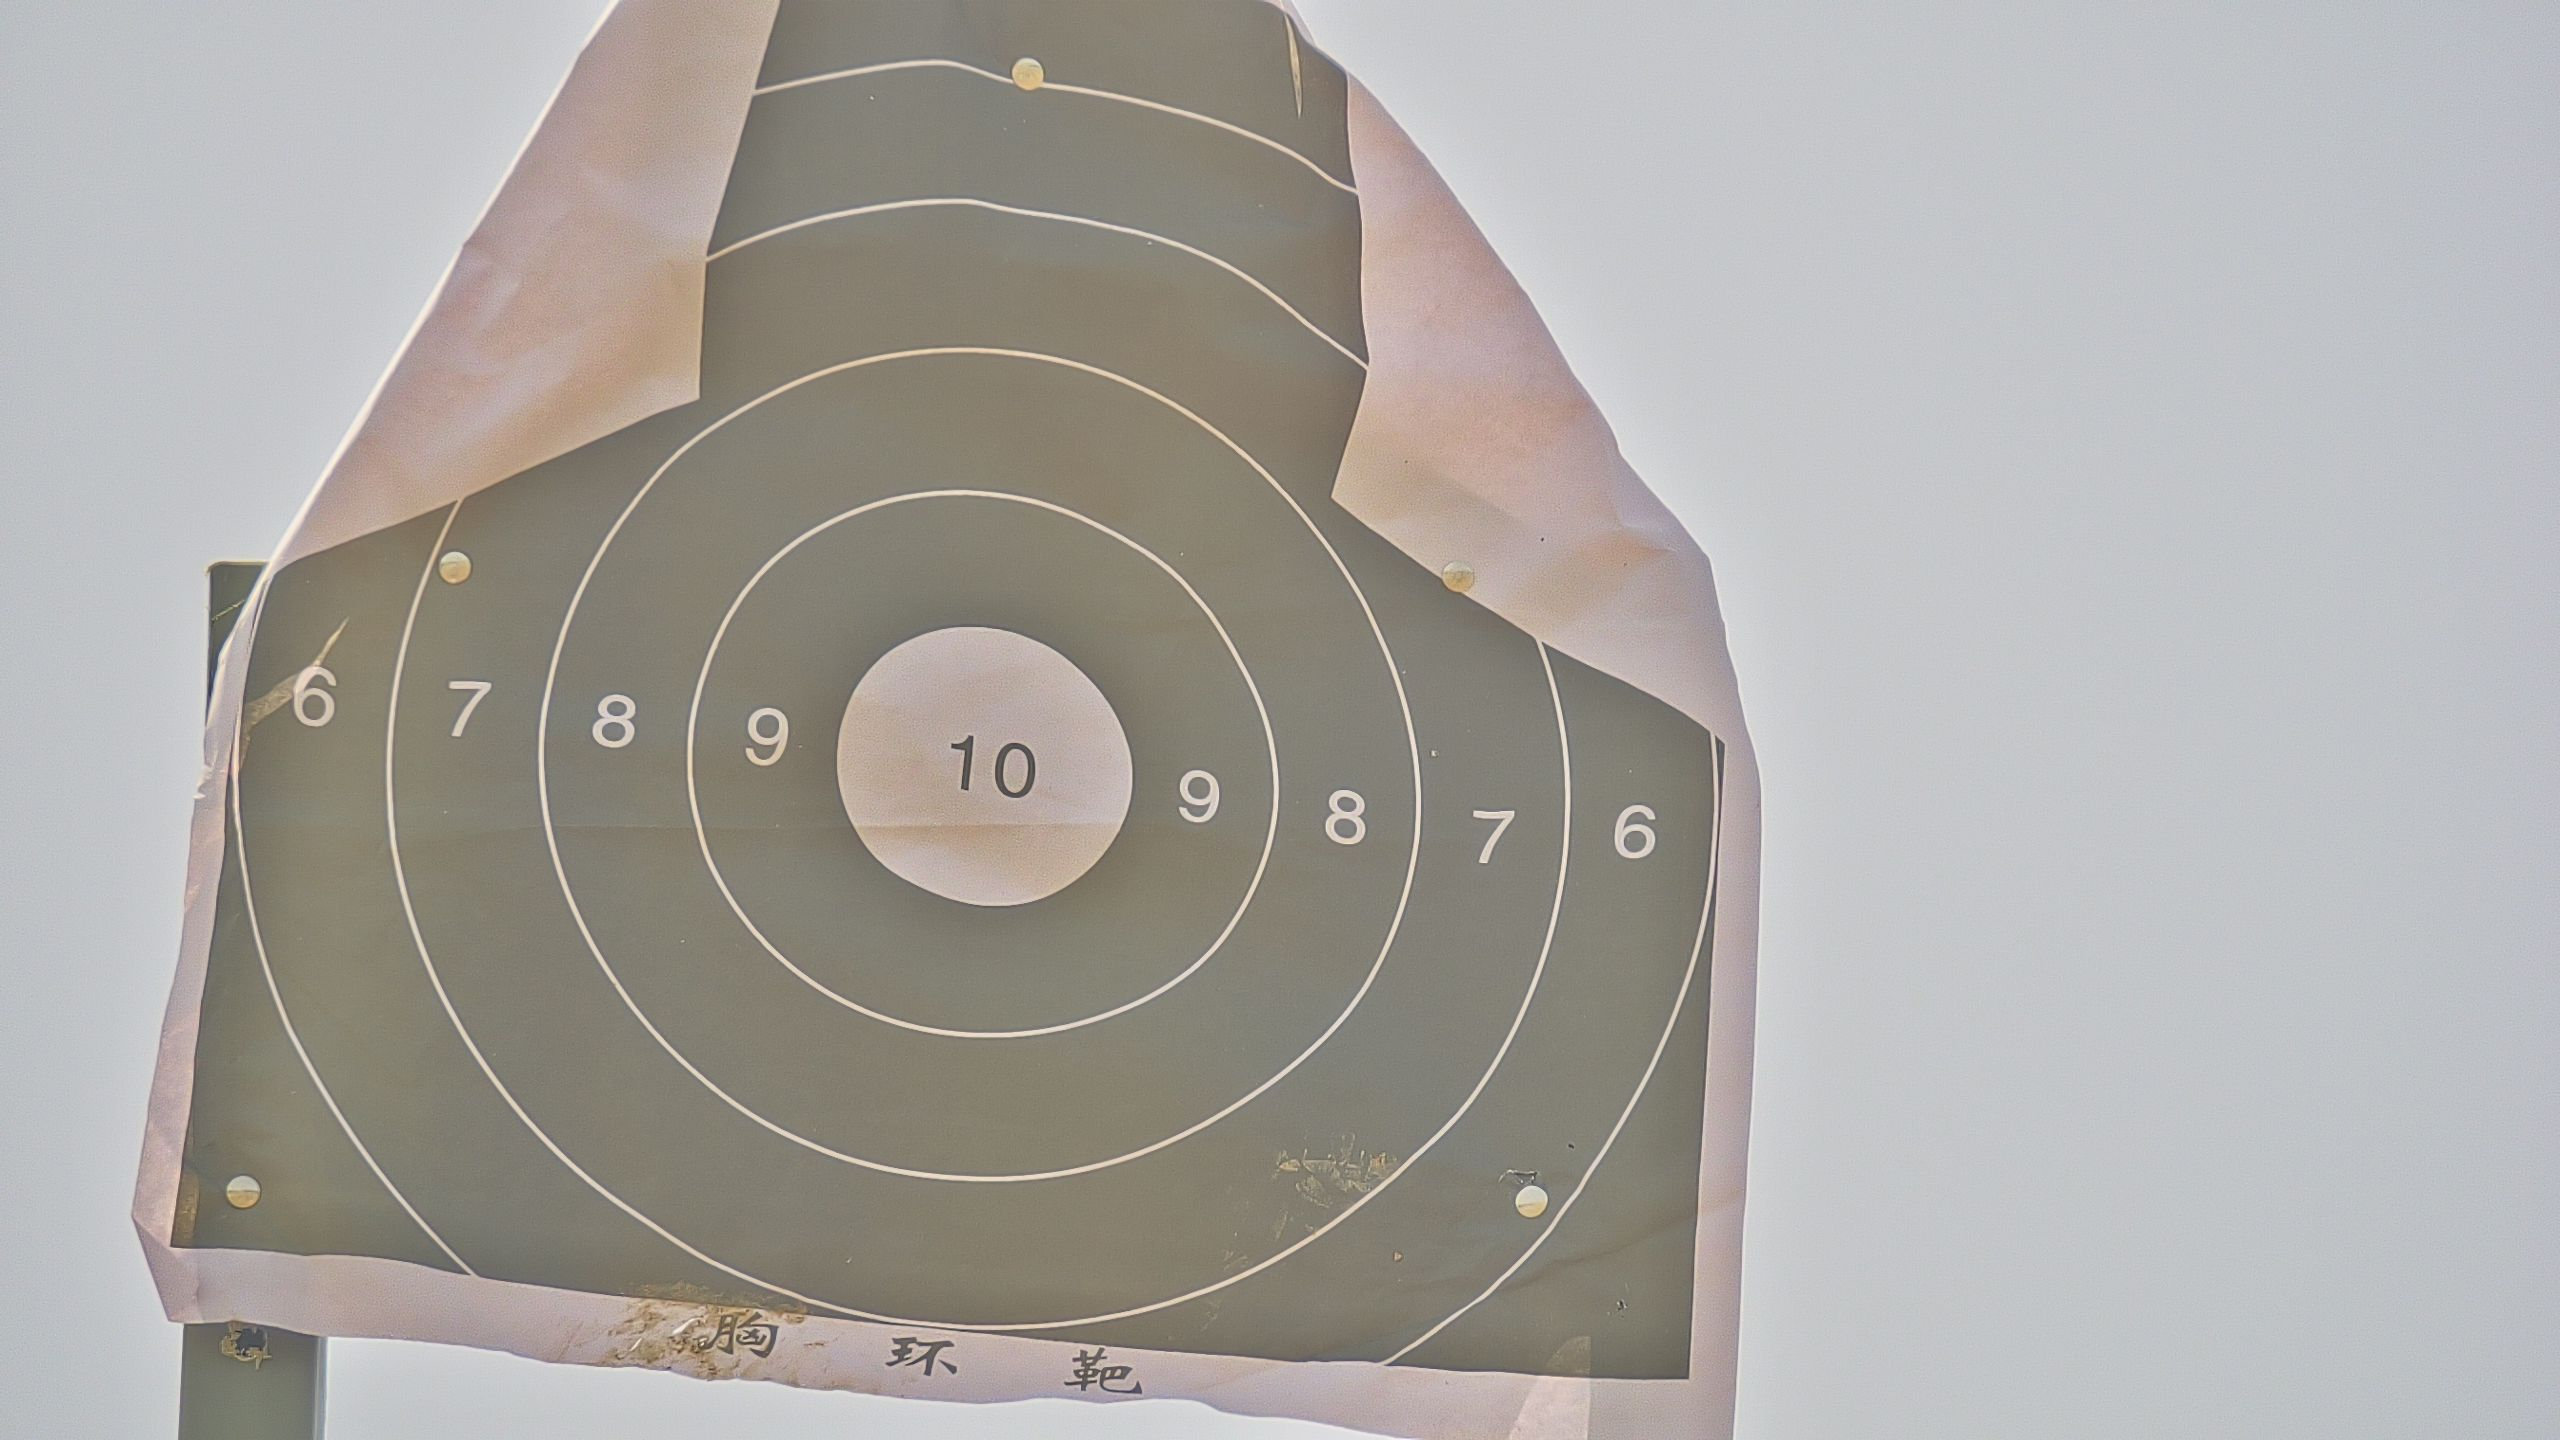target: (165, 2, 1698, 1391)
ten: (837, 624, 1134, 905)
